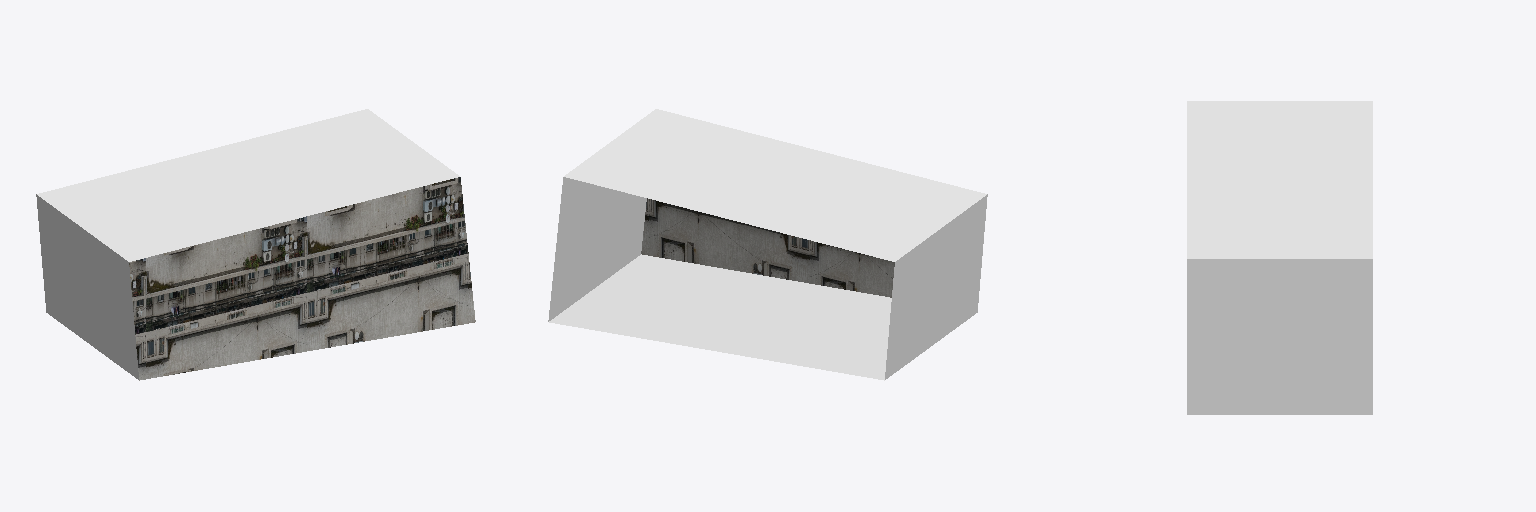
3 renders of one model, left to right at view 1: azimuth 30°, elevation 25°; view 2: azimuth 150°, elevation 25°; view 3: azimuth 270°, elevation 25°, orthographic.
Visible parts, largest first — view 1: Building; view 2: Building; view 3: Building.
Part boxes in pixels (x1,y1,x2,y2): Building: (36,109,475,380); Building: (548,109,987,380); Building: (1187,101,1372,414).
Size of the model in its own units: 12.93 by 5.32 by 6.
Materials: 2 (1 with a texture image).